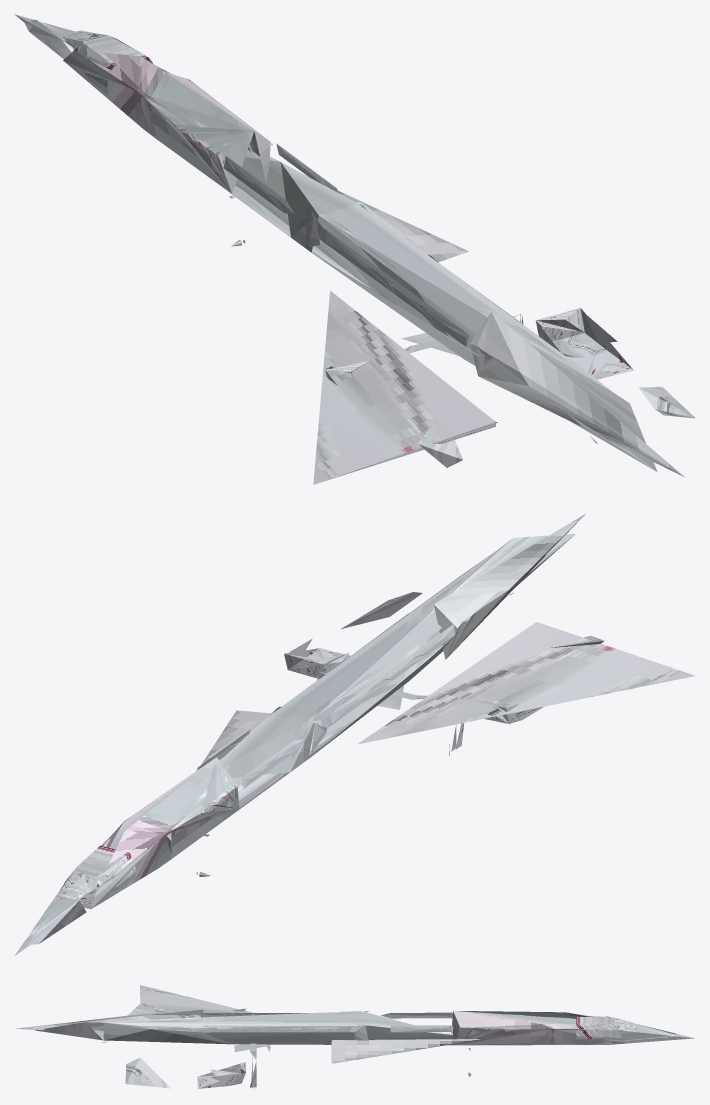
3 renders of one model, top to bottom at view 1: azimuth 30°, elevation 25°; view 2: azimuth 150°, elevation 25°; view 3: azimuth 270°, elevation 25°, orthographic. The views are drawn at different scales.
Parts seen in each view (by area): view 1: Object_34, Object_9; view 2: Object_34, Object_9; view 3: Object_34, Object_9, Object_24.
Boxes of the visible parts, bbox=[...] form: Object_34: bbox=[14, 14, 684, 484]; Object_9: bbox=[62, 30, 695, 467]; Object_34: bbox=[14, 514, 695, 955]; Object_9: bbox=[56, 592, 604, 904]; Object_34: bbox=[14, 985, 694, 1087]; Object_9: bbox=[125, 1003, 636, 1090]; Object_24: bbox=[167, 1014, 504, 1052].
Bounding box in the file's own units: 18.11 × 5.77 × 54.96.
1 material, 1 textured.
